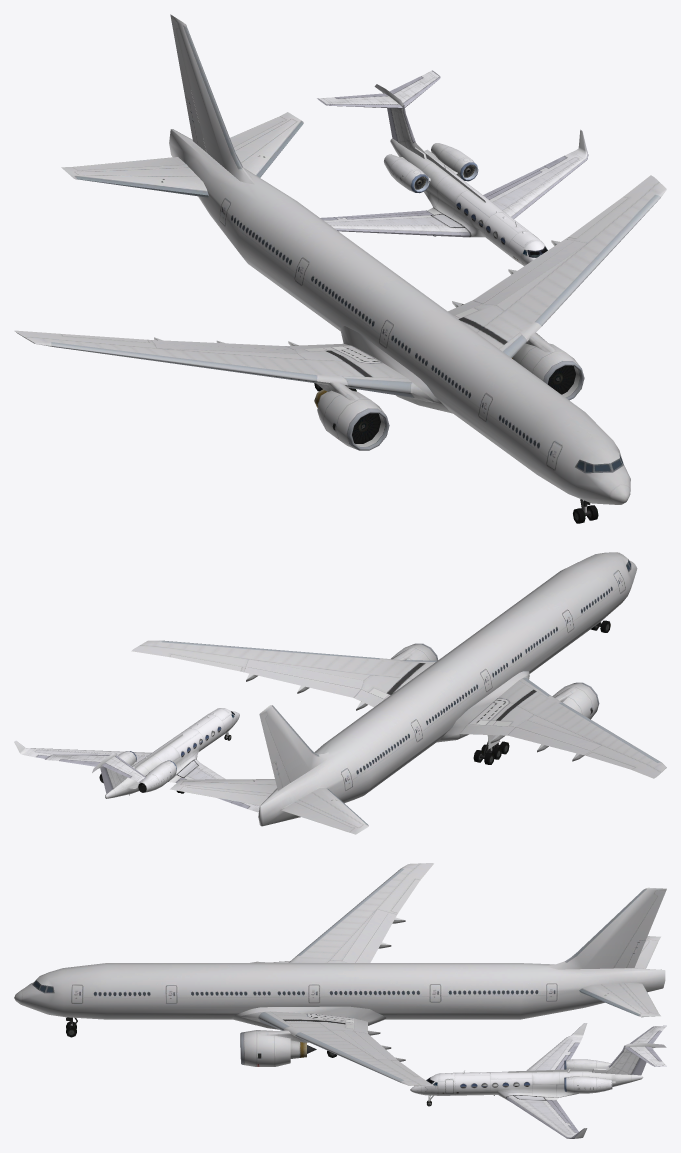
The model's file is gulfstream_5_and_a_777.glb.
The picture shows the model from 3 angles, top to bottom: view 1: azimuth 30°, elevation 25°; view 2: azimuth 150°, elevation 25°; view 3: azimuth 270°, elevation 25°; orthographic projection. The views are drawn at different scales.
Visible parts, largest first — view 1: 777_B773_GA_0, Gulfstream5_02 - Default_0; view 2: 777_B773_GA_0, Gulfstream5_02 - Default_0; view 3: 777_B773_GA_0, Gulfstream5_02 - Default_0.
Part boxes in pixels (left/top/right/bottom): 777_B773_GA_0: left=14, top=14, right=666, bottom=523; Gulfstream5_02 - Default_0: left=317, top=70, right=588, bottom=265; 777_B773_GA_0: left=131, top=552, right=666, bottom=834; Gulfstream5_02 - Default_0: left=14, top=708, right=259, bottom=812; 777_B773_GA_0: left=14, top=863, right=666, bottom=1086; Gulfstream5_02 - Default_0: left=410, top=1023, right=666, bottom=1138.
Size of the model in its own units: 63.09 by 18.32 by 73.91.
2 materials, 2 textured.
